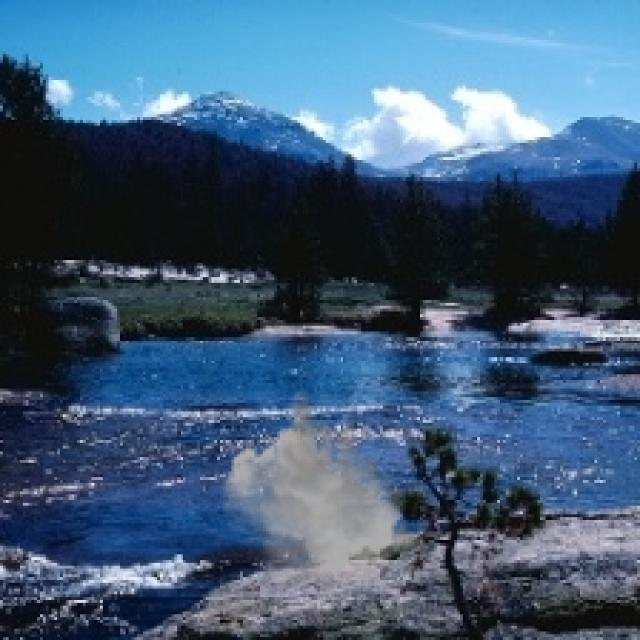Smoke: (219, 386, 432, 603)
